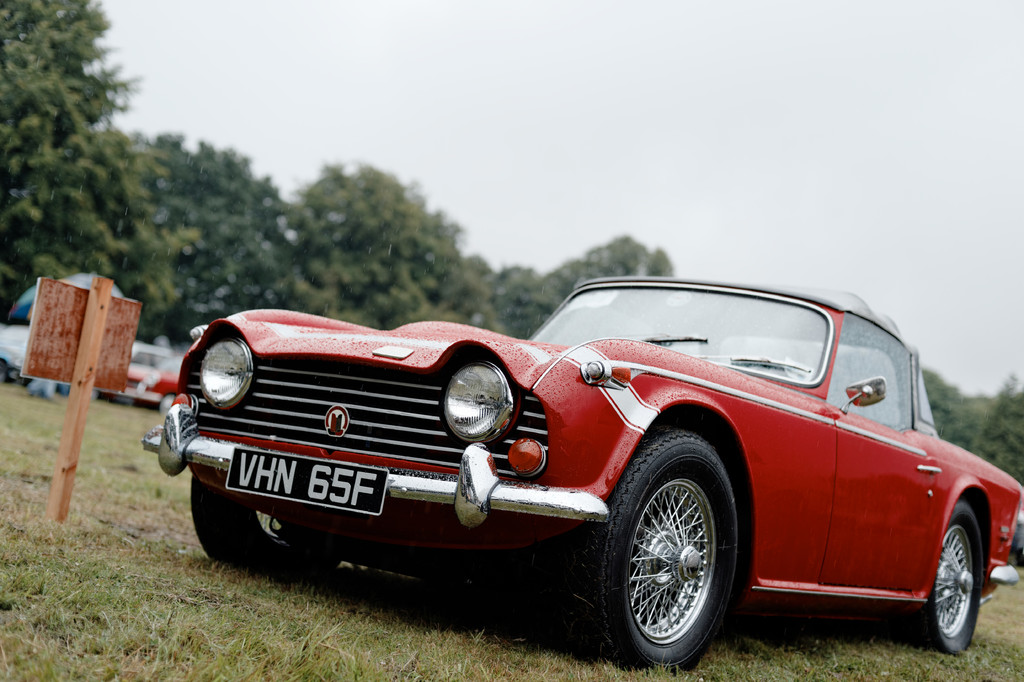Tree: (0, 0, 1022, 511)
